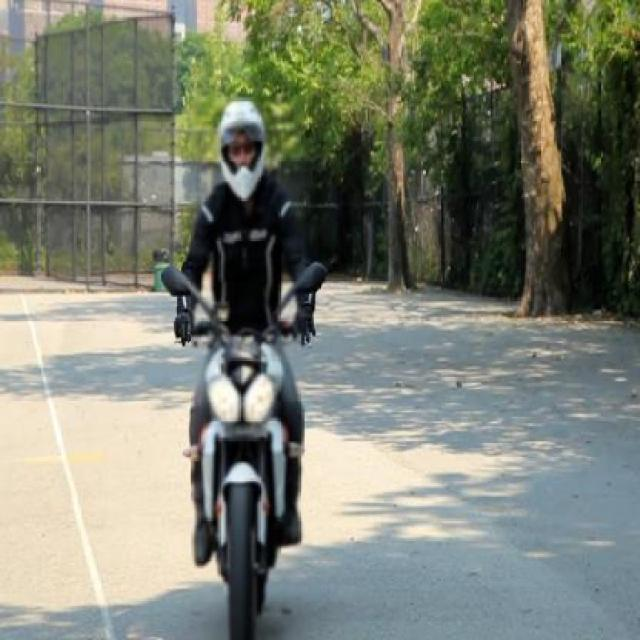helmet: (189, 87, 284, 206)
motorcycle: (100, 78, 385, 640)
